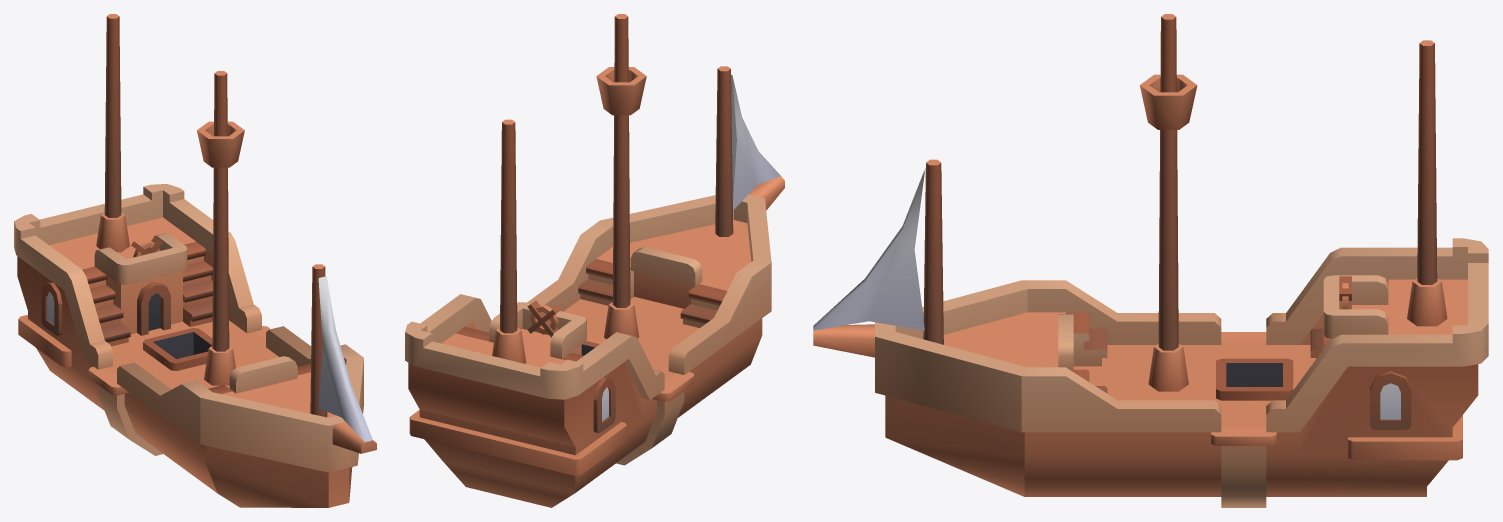
Rendered from cargo_ship.glb.
3 renders of one model, left to right at view 1: azimuth 30°, elevation 25°; view 2: azimuth 150°, elevation 25°; view 3: azimuth 270°, elevation 25°, orthographic. The views are drawn at different scales.
Parts seen in each view (by area): view 1: ship-large; view 2: ship-large; view 3: ship-large.
Boxes of the visible parts, x1,y1,x2,y2 form: ship-large: [14, 14, 376, 507]; ship-large: [405, 14, 784, 507]; ship-large: [813, 14, 1488, 507].
Bounding box in the file's own units: 4.8 × 9.96 × 13.1.
Materials: 1 (1 with a texture image).
